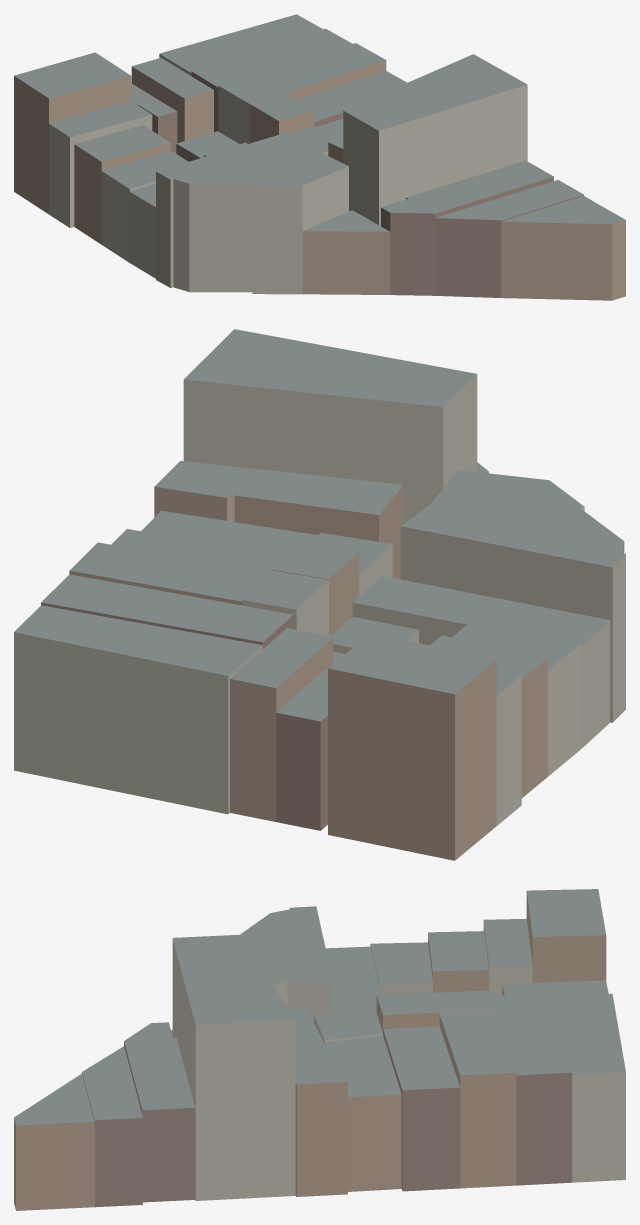
3 views of the same model, one above another, from view 1: azimuth 30°, elevation 25°; view 2: azimuth 150°, elevation 25°; view 3: azimuth 270°, elevation 25° (orthographic). The views are drawn at different scales.
Parts seen in each view (by area): view 1: C6; view 2: C6; view 3: C6.
Boxes of the visible parts, x1,y1,x2,y2 form: C6: [14, 14, 625, 300]; C6: [14, 329, 625, 860]; C6: [14, 889, 625, 1210].
Size of the model in its own units: 65.78 by 28.16 by 88.58.
